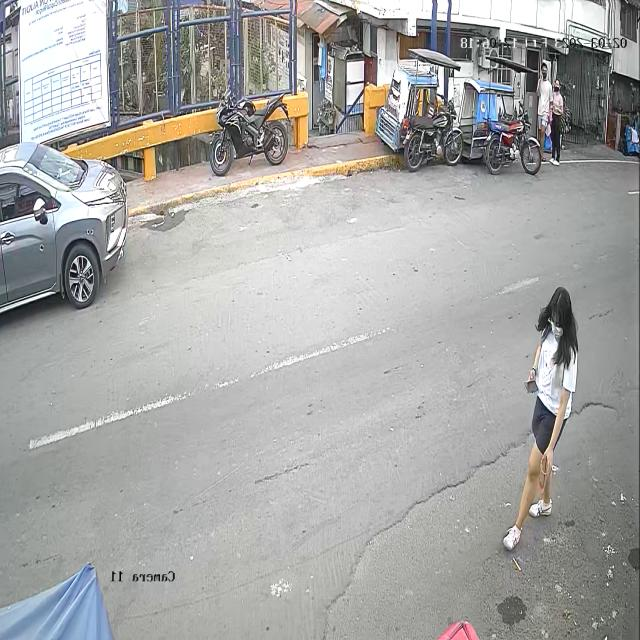garbage_dumping: (536, 448, 553, 497)
